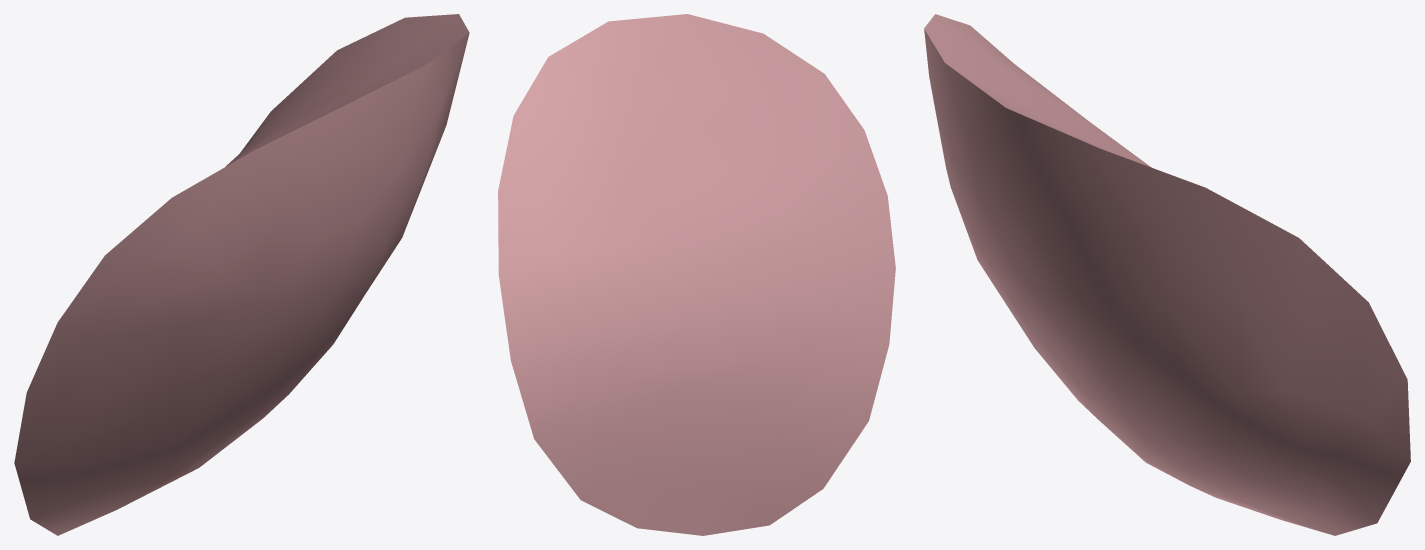
File: fma80472_mm1602.glb
3 views of the same model, side by side, from view 1: azimuth 30°, elevation 25°; view 2: azimuth 150°, elevation 25°; view 3: azimuth 270°, elevation 25° (orthographic). The views are drawn at different scales.
Parts seen in each view (by area): view 1: FMA80472_MM1602; view 2: FMA80472_MM1602; view 3: FMA80472_MM1602.
Boxes of the visible parts, x1,y1,x2,y2 form: FMA80472_MM1602: [14, 14, 469, 535]; FMA80472_MM1602: [498, 14, 895, 535]; FMA80472_MM1602: [924, 14, 1410, 535].
Bounding box in the file's own units: 0.0134 × 0.0151 × 0.0121.
